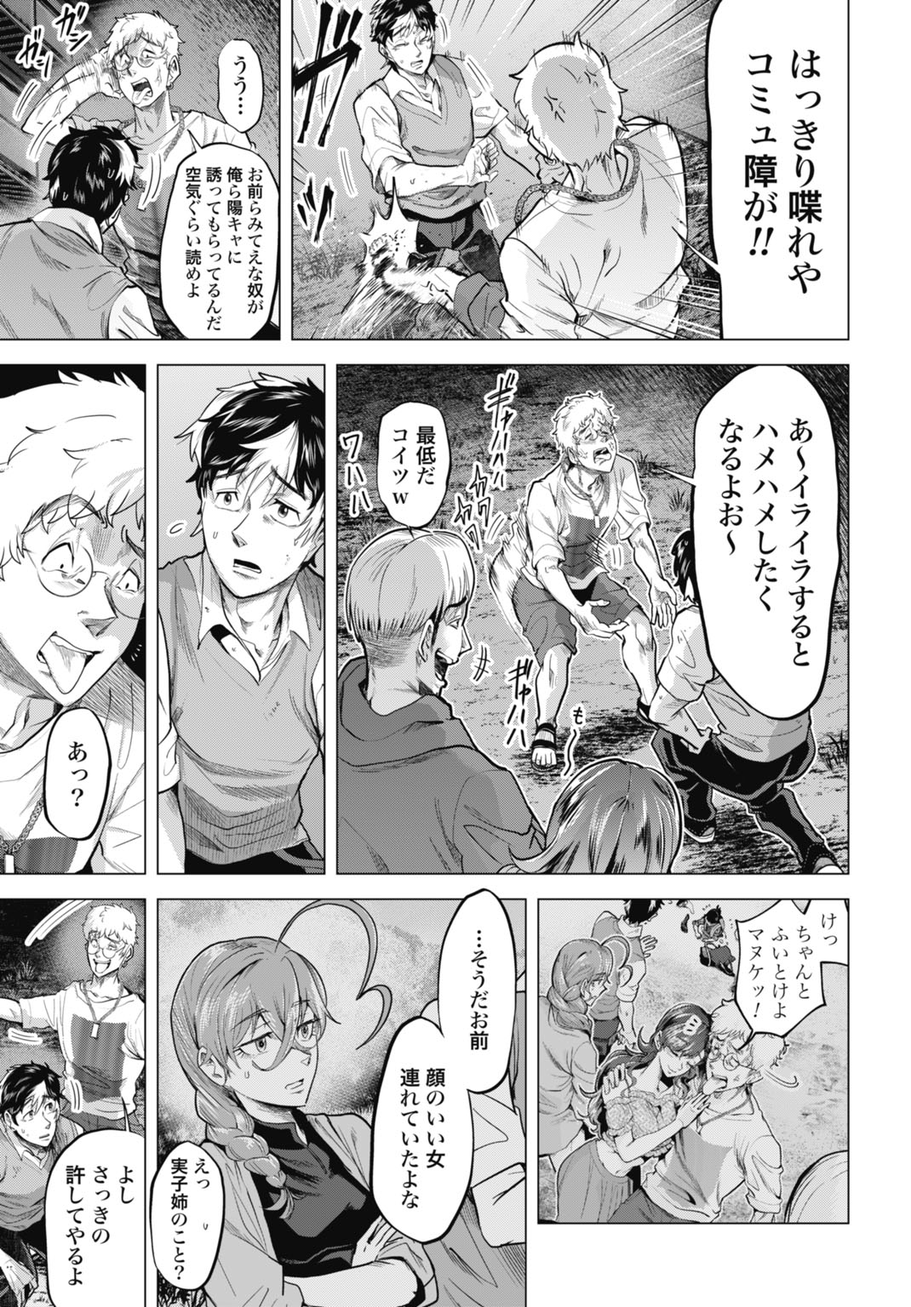bubbles: (677, 364, 849, 734), (367, 887, 519, 1247), (695, 1, 848, 340), (155, 123, 282, 339), (719, 898, 851, 1053), (42, 1115, 146, 1307), (149, 1129, 228, 1298), (375, 397, 461, 532), (41, 694, 115, 849), (214, 37, 269, 138)
